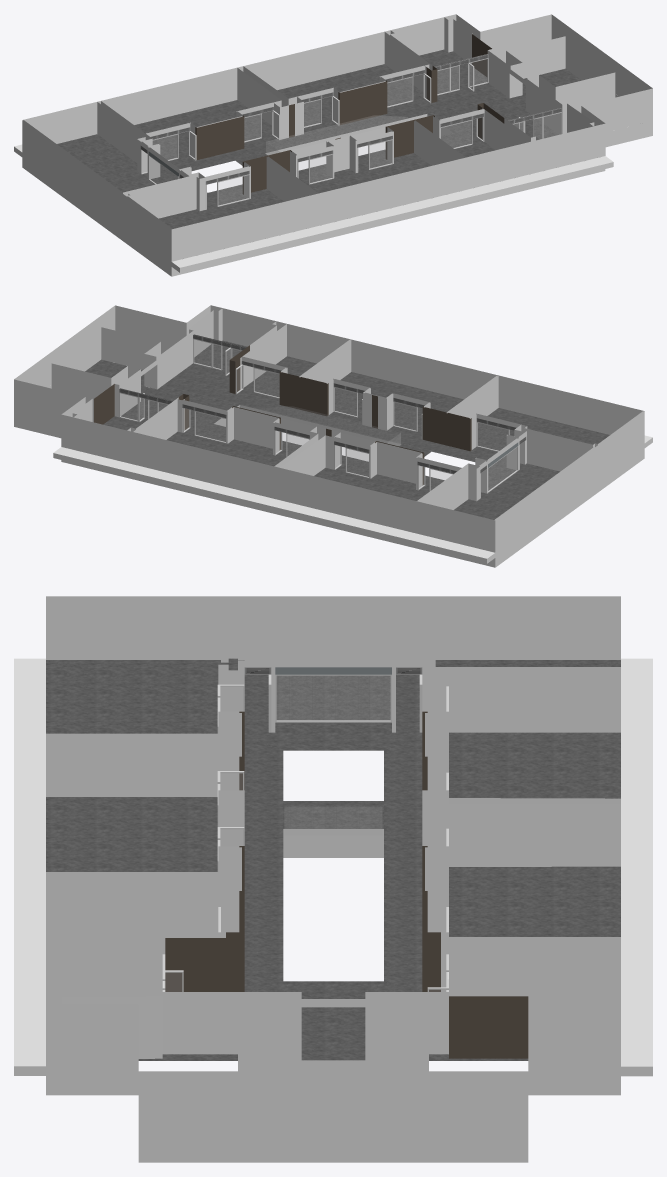
The model's file is EISCSecondFloor.glb.
3 views of the same model, one above another, from view 1: azimuth 30°, elevation 25°; view 2: azimuth 150°, elevation 25°; view 3: azimuth 270°, elevation 25° (orthographic). The views are drawn at different scales.
Parts seen in each view (by area): view 1: StructureSecondFloor, SecondFloor, DoorCenesis, Door2002, DoorComputerRoom1R, DoorComputerRoom4, DoorComputerRoom2R, DoorComputerRoom5R, DoorComputerRoom5L, DoorComputerRoom1L, Door2008, DoorComputerRoom2L; view 2: StructureSecondFloor, SecondFloor, DoorComputerRoom1R, Door2002, Door2008, DoorComputerRoom2L, DoorComputerRoom4, DoorCenesis, DoorComputerRoom5R, DoorComputerRoom5L, DoorComputerRoom2R, DoorComputerRoom1L; view 3: StructureSecondFloor, SecondFloor, DoorComputerRoom4.
Part boxes in pixels (x1,y1,x2,y2): StructureSecondFloor: [14, 14, 652, 276]; SecondFloor: [57, 49, 581, 228]; DoorCenesis: [435, 54, 488, 95]; Door2002: [440, 109, 484, 148]; DoorComputerRoom1R: [381, 65, 431, 107]; DoorComputerRoom4: [205, 166, 249, 209]; DoorComputerRoom2R: [146, 123, 196, 160]; DoorComputerRoom5R: [297, 146, 333, 184]; DoorComputerRoom5L: [356, 131, 392, 172]; DoorComputerRoom1L: [297, 88, 339, 127]; Door2008: [508, 108, 561, 138]; DoorComputerRoom2L: [237, 102, 279, 142]; StructureSecondFloor: [14, 305, 652, 567]; SecondFloor: [85, 340, 609, 519]; DoorComputerRoom1R: [182, 400, 226, 443]; Door2002: [235, 356, 285, 398]; Door2008: [193, 334, 246, 375]; DoorComputerRoom2L: [334, 437, 369, 478]; DoorComputerRoom4: [476, 414, 520, 451]; DoorCenesis: [119, 388, 172, 422]; DoorComputerRoom5R: [393, 393, 429, 439]; DoorComputerRoom5L: [333, 379, 369, 424]; DoorComputerRoom2R: [417, 457, 461, 491]; DoorComputerRoom1L: [274, 422, 310, 456]; StructureSecondFloor: [14, 596, 652, 1162]; SecondFloor: [46, 658, 620, 1060]; DoorComputerRoom4: [217, 684, 244, 733].
Bounding box in the file's own units: 42.4 × 3.8 × 24.1.
Materials: 6 (2 with a texture image).
